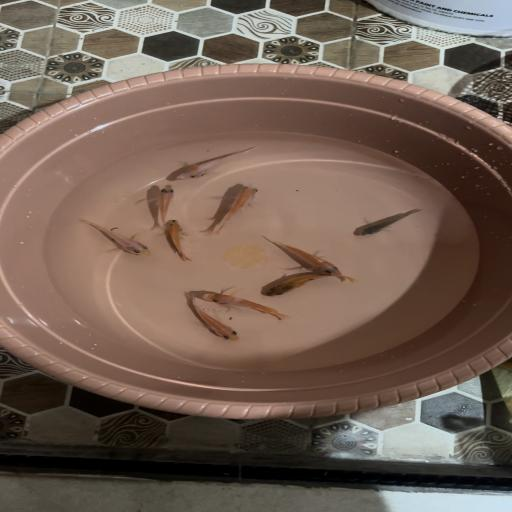nila: (202, 180, 271, 238), (172, 139, 262, 183), (74, 211, 156, 259), (170, 301, 248, 346), (265, 239, 359, 275), (337, 206, 436, 240), (256, 270, 360, 302), (197, 288, 289, 320), (156, 218, 206, 262), (147, 183, 183, 224)
